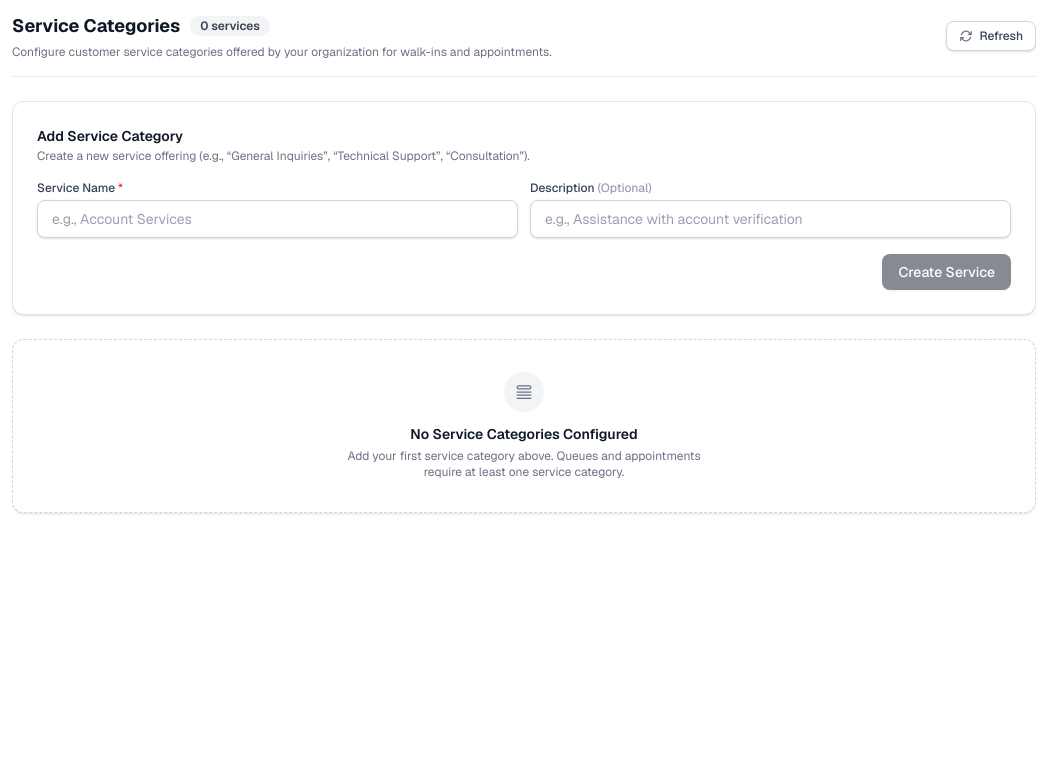
it: components/admin/ServiceManagement › Service creation form › submits the new service with name and optional description and updates the list on success
Check: the heading "No Service Categories Configured" is shown, box [410, 425, 638, 443]
Check: the button "Create Service" is disabled, box [882, 254, 1011, 290]
Enter name and description
In the field with placeholder "e.g., Account Services": (278, 219) [37, 200, 518, 238], type "Cardiology"
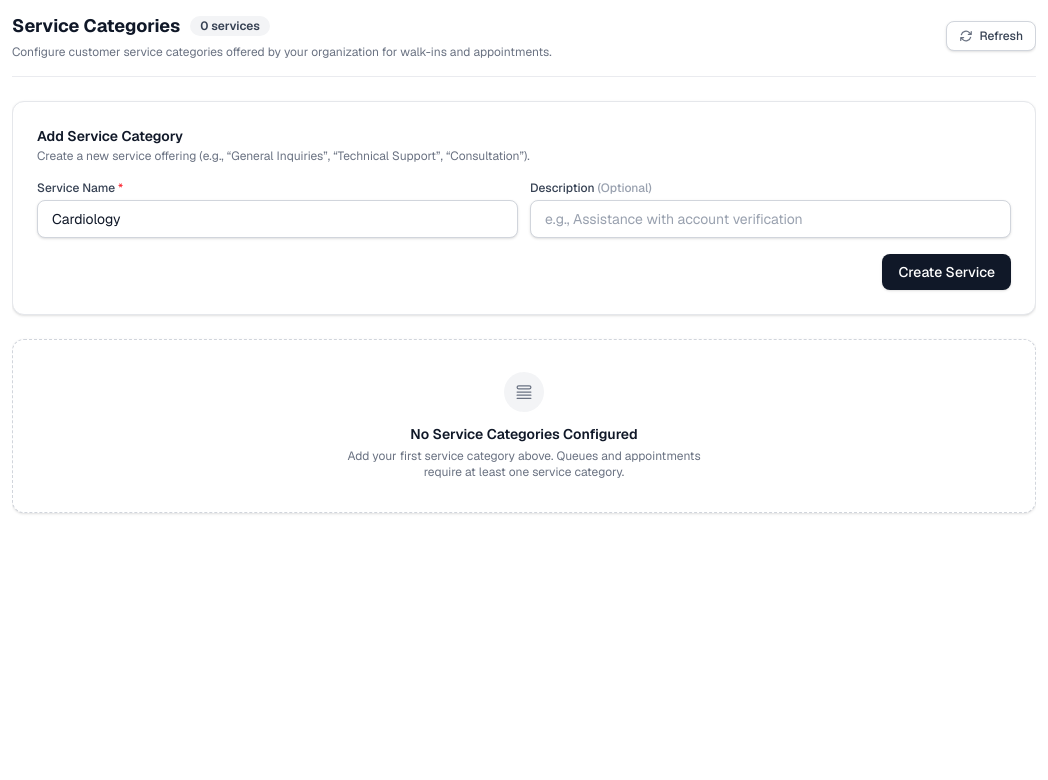
In the field with placeholder "e.g., Assistance with account verification": (770, 219) [530, 200, 1011, 238], type "Heart and vascular clinic"
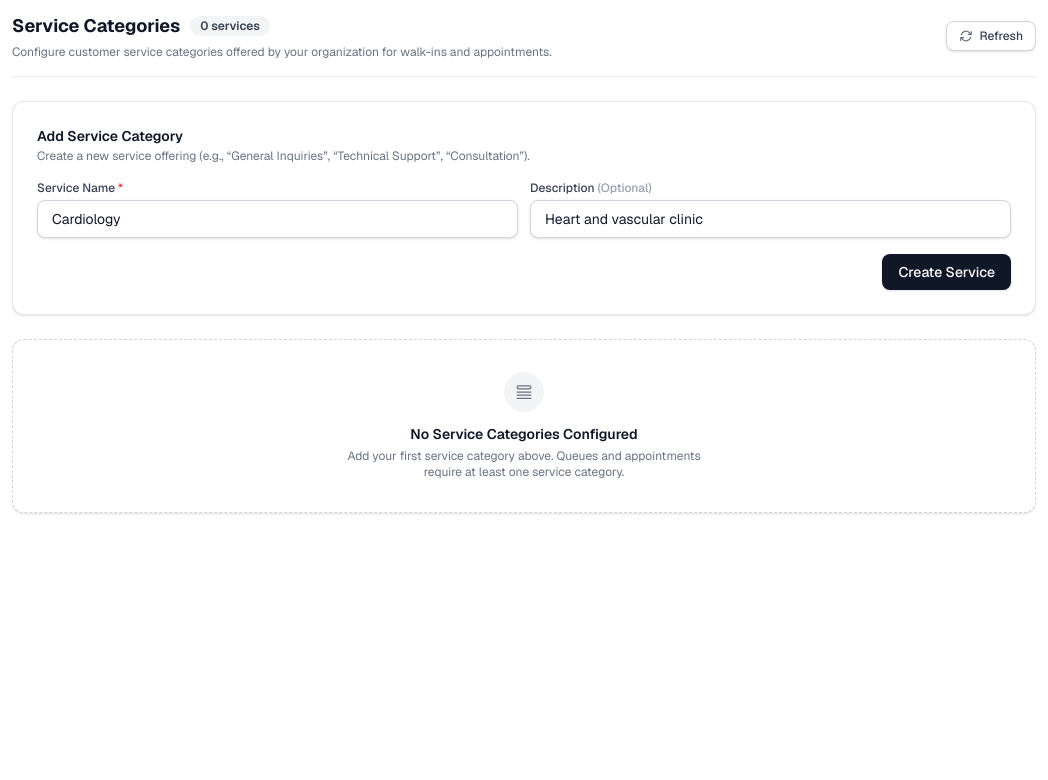
Check: the button "Create Service" is enabled
Click the button "Create Service": (947, 272) [882, 254, 1011, 290]
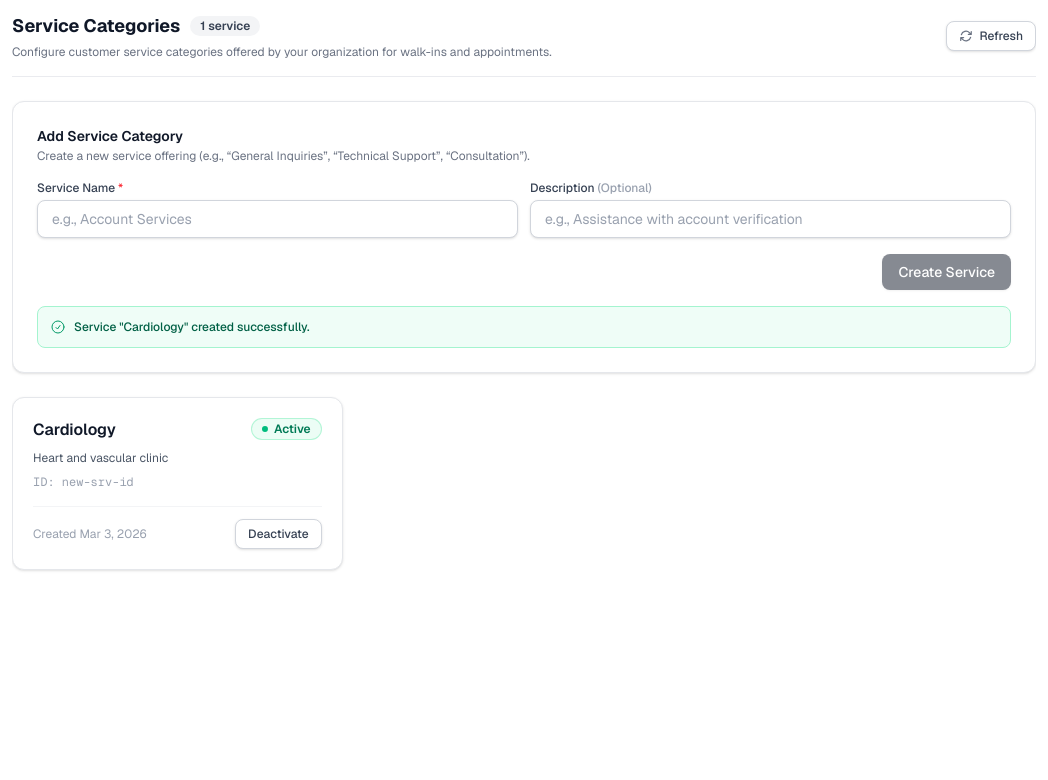
Check: the text "Service \"Cardiology\" created successfully." is shown, box [74, 319, 310, 335]
Check: the heading "Cardiology" is shown, box [33, 418, 116, 442]
Check: the text "Heart and vascular clinic" is shown, box [33, 450, 168, 466]
